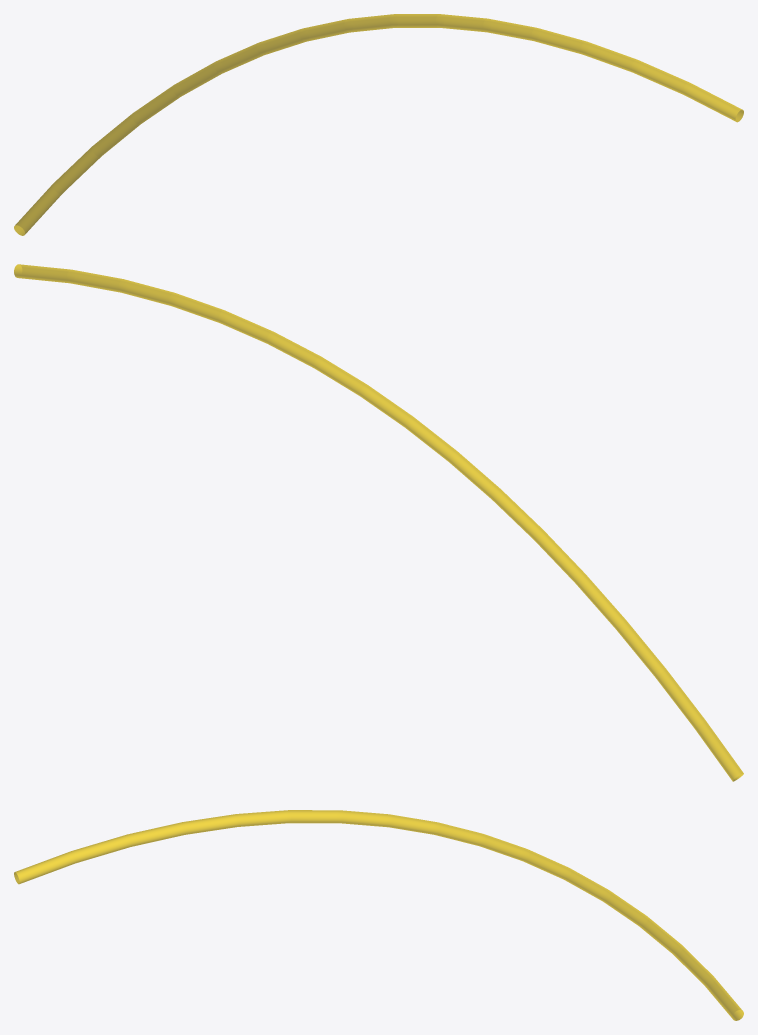
Rendered from Event_17758602_track_3.fbx.
3 views of the same model, one above another, from view 1: azimuth 30°, elevation 25°; view 2: azimuth 210°, elevation 25°; view 3: azimuth 270°, elevation 25° (orthographic). The views are drawn at different scales.
Visible parts, largest first — view 1: Model; view 2: Model; view 3: Model.
Part boxes in pixels (left/top/right/bottom): Model: left=14, top=14, right=743, bottom=235; Model: left=14, top=264, right=743, bottom=781; Model: left=14, top=810, right=743, bottom=1020.
Bounding box in the file's own units: 1.17 × 1.09 × 2.23.
